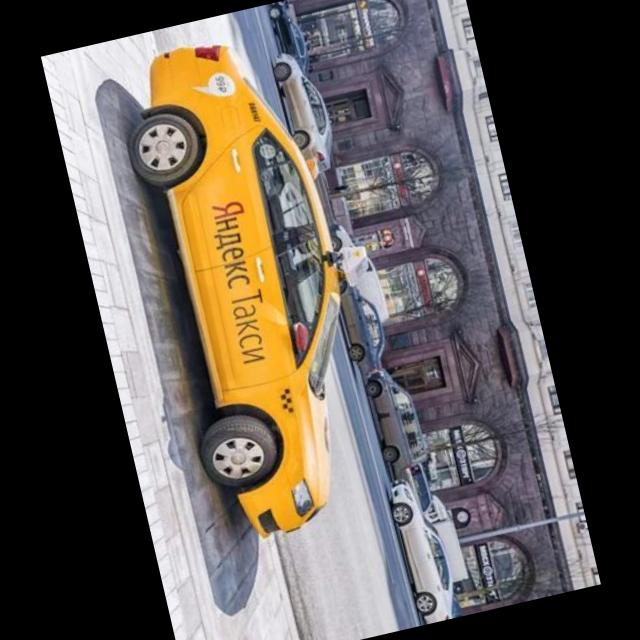taxi: (109, 22, 404, 550)
